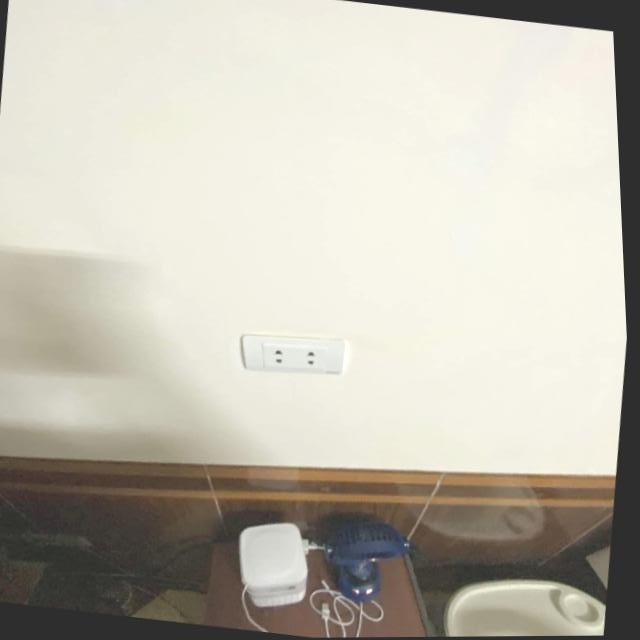outlet: (236, 327, 348, 383)
